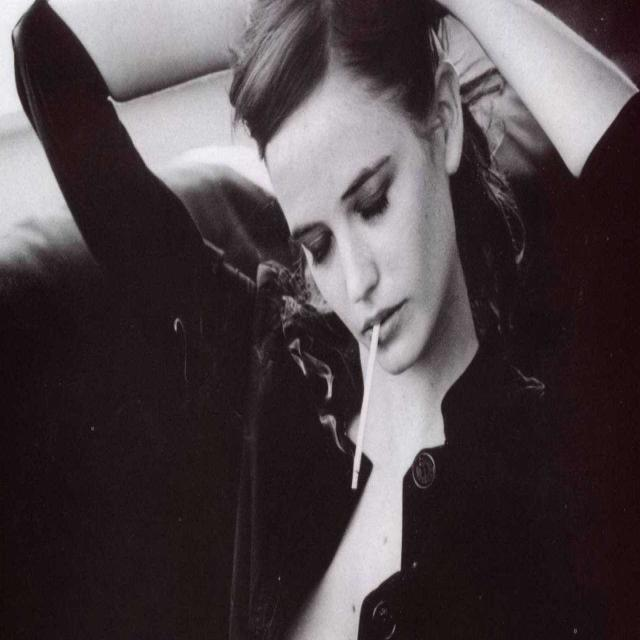Smooking: (338, 322, 388, 494)
